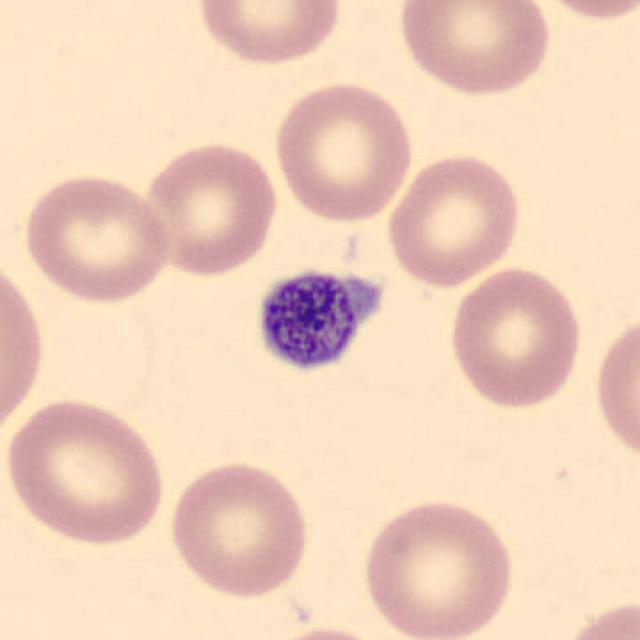Platelets: (244, 254, 398, 390)
RBC: (0, 393, 169, 548), (359, 493, 517, 640), (163, 457, 314, 601), (270, 77, 416, 224), (444, 262, 586, 412), (20, 168, 174, 305), (139, 138, 281, 278), (382, 150, 524, 289), (394, 0, 554, 99), (192, 0, 347, 69), (0, 248, 50, 442), (590, 310, 638, 468), (554, 596, 640, 640), (247, 622, 402, 640), (526, 0, 638, 23)
